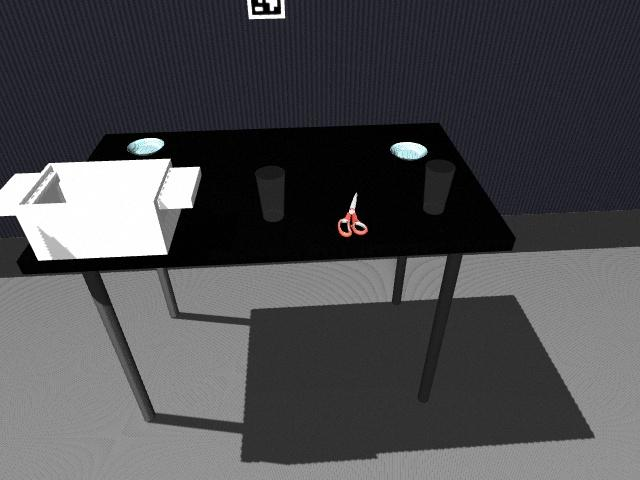cup: (423, 160, 455, 216), (255, 166, 285, 222)
plate: (388, 140, 429, 161), (126, 137, 166, 157)
scissors: (336, 190, 369, 238)
